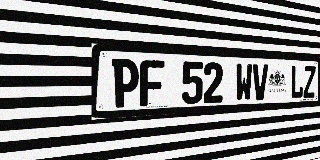2: (204, 62, 223, 103)
5: (182, 61, 203, 104)
F: (140, 60, 164, 107)
L: (290, 65, 303, 99)
P: (112, 59, 139, 108)
V: (252, 64, 268, 101)
W: (235, 63, 252, 102)
Z: (303, 66, 316, 98)
